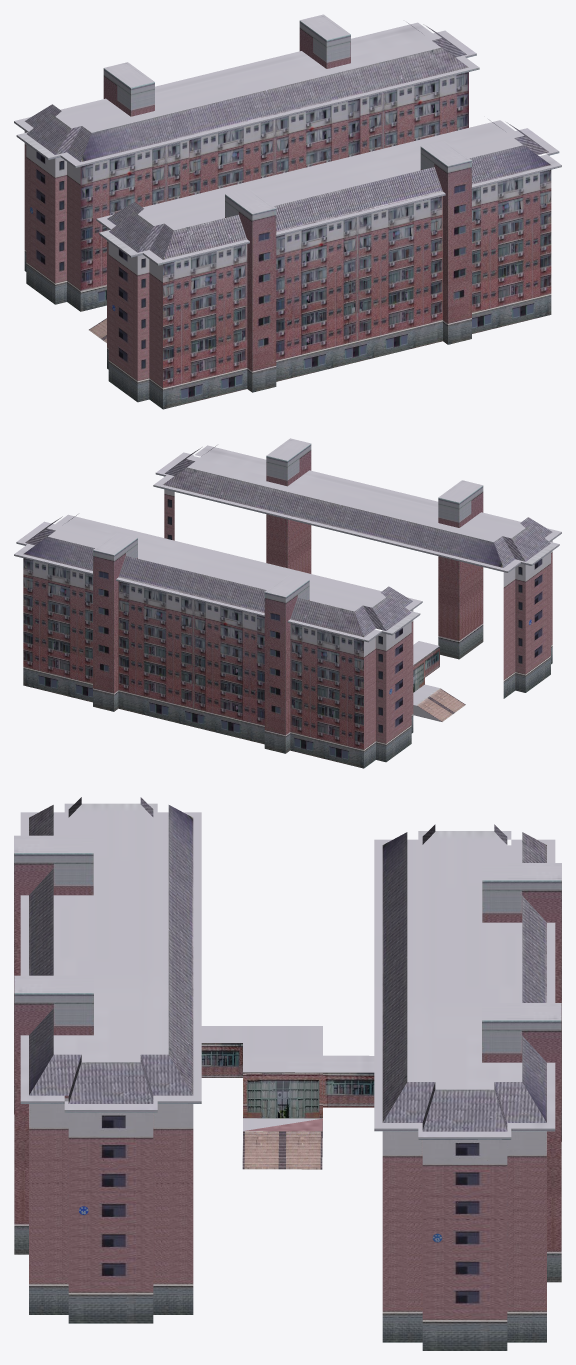
The picture shows the model from 3 angles, top to bottom: view 1: azimuth 30°, elevation 25°; view 2: azimuth 150°, elevation 25°; view 3: azimuth 270°, elevation 25°; orthographic projection. The views are drawn at different scales.
Parts seen in each view (by area): view 1: Mesh01#30, Mesh03#26, Mesh04#22, Mesh02#32, Mesh05#21, Mesh06#19; view 2: Mesh03#26, Mesh01#30, Mesh04#22, Mesh05#21, Mesh06#19, Mesh02#32, Mesh07#18; view 3: Mesh01#30, Mesh03#26, Mesh07#18, Mesh02#32, Mesh06#19, Mesh04#22, Mesh05#21.
Boxes of the visible parts, bbox=[...] form: Mesh01#30: bbox=[96, 119, 561, 409]; Mesh03#26: bbox=[14, 22, 479, 311]; Mesh04#22: bbox=[225, 188, 276, 392]; Mesh02#32: bbox=[420, 140, 471, 344]; Mesh05#21: bbox=[103, 62, 154, 116]; Mesh06#19: bbox=[299, 14, 350, 68]; Mesh03#26: bbox=[14, 514, 422, 768]; Mesh01#30: bbox=[153, 445, 561, 698]; Mesh04#22: bbox=[438, 480, 483, 659]; Mesh05#21: bbox=[264, 574, 309, 753]; Mesh06#19: bbox=[93, 532, 137, 711]; Mesh02#32: bbox=[266, 438, 311, 573]; Mesh07#18: bbox=[413, 641, 465, 721]; Mesh01#30: bbox=[20, 797, 201, 1323]; Mesh03#26: bbox=[374, 824, 555, 1350]; Mesh07#18: bbox=[201, 1026, 374, 1169]; Mesh02#32: bbox=[14, 975, 93, 1254]; Mesh06#19: bbox=[482, 1003, 561, 1282]; Mesh04#22: bbox=[14, 835, 93, 1114]; Mesh05#21: bbox=[482, 863, 561, 1141].
Size of the model in its own units: 0.0793 by 0.029 by 0.055.
Materials: 1 (1 with a texture image).
